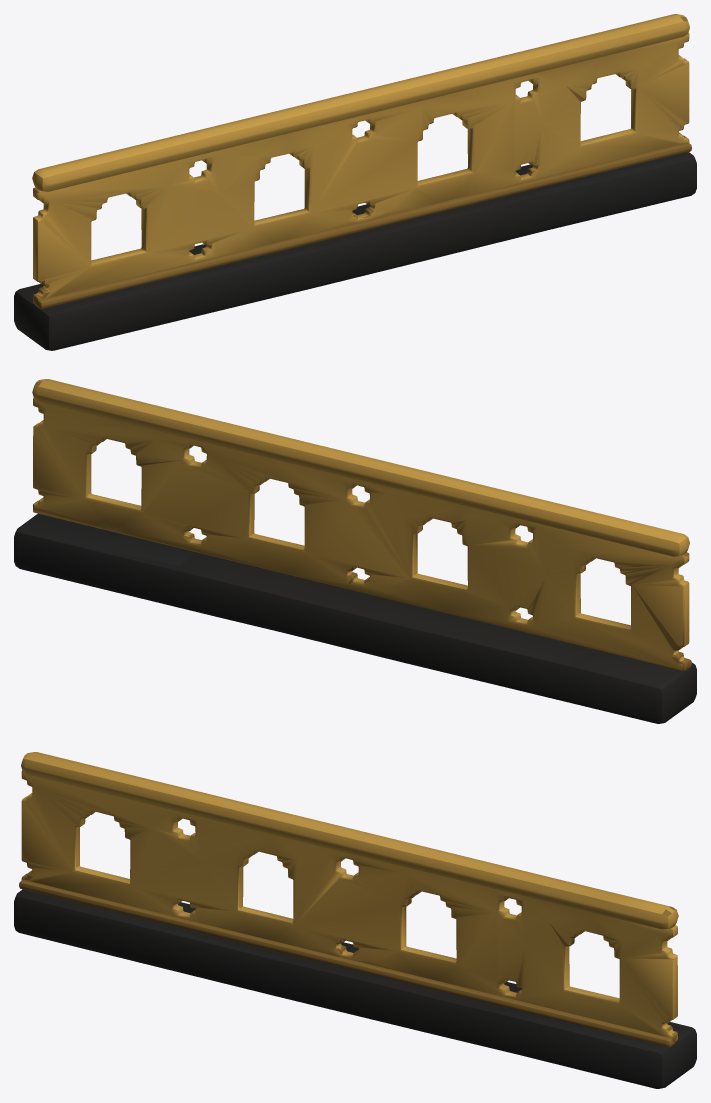
The model's file is ember_fender_lod1.glb.
3 views of the same model, one above another, from view 1: azimuth 30°, elevation 25°; view 2: azimuth 150°, elevation 25°; view 3: azimuth 330°, elevation 25° (orthographic).
Parts seen in each view (by area): view 1: ember_fender.001; view 2: ember_fender.001; view 3: ember_fender.001.
Boxes of the visible parts, x1=… form: ember_fender.001: x1=14, y1=14, x2=696, y2=350; ember_fender.001: x1=14, y1=379, x2=696, y2=723; ember_fender.001: x1=14, y1=752, x2=696, y2=1088.
Bounding box in the file's own units: 40.03 × 10.23 × 4.
